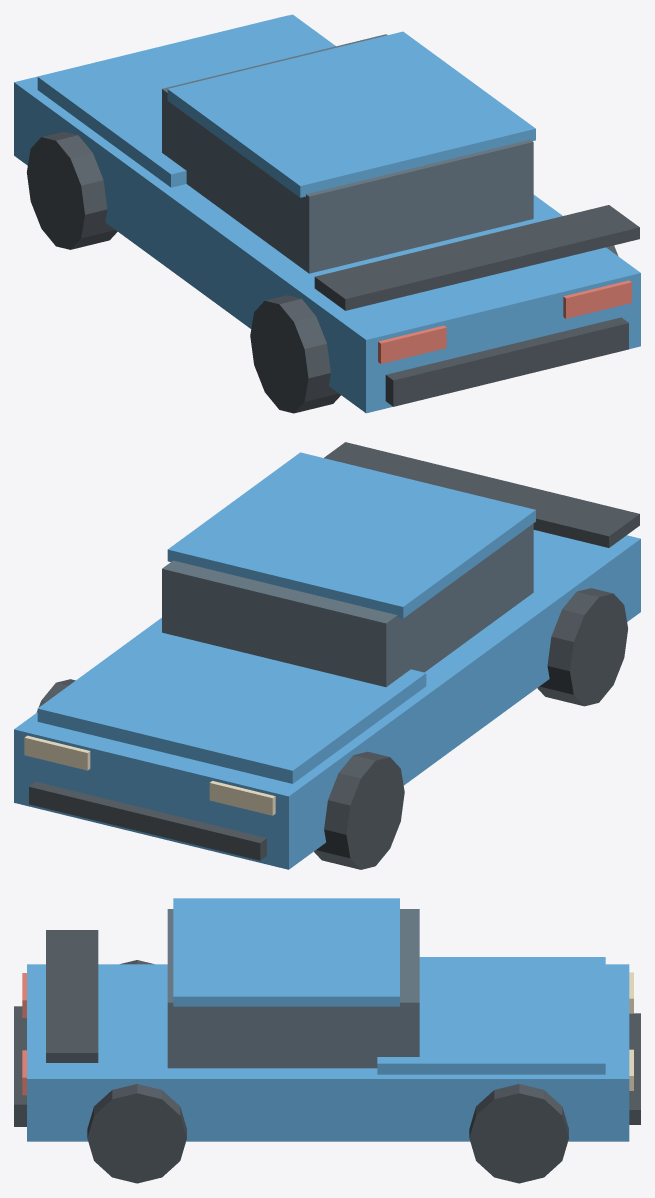
File: blue-car.glb
The picture shows the model from 3 angles, top to bottom: view 1: azimuth 30°, elevation 25°; view 2: azimuth 150°, elevation 25°; view 3: azimuth 270°, elevation 25°; orthographic projection. The views are drawn at different scales.
Size of the model in its own units: 2.28 by 1.35 by 4.53.
